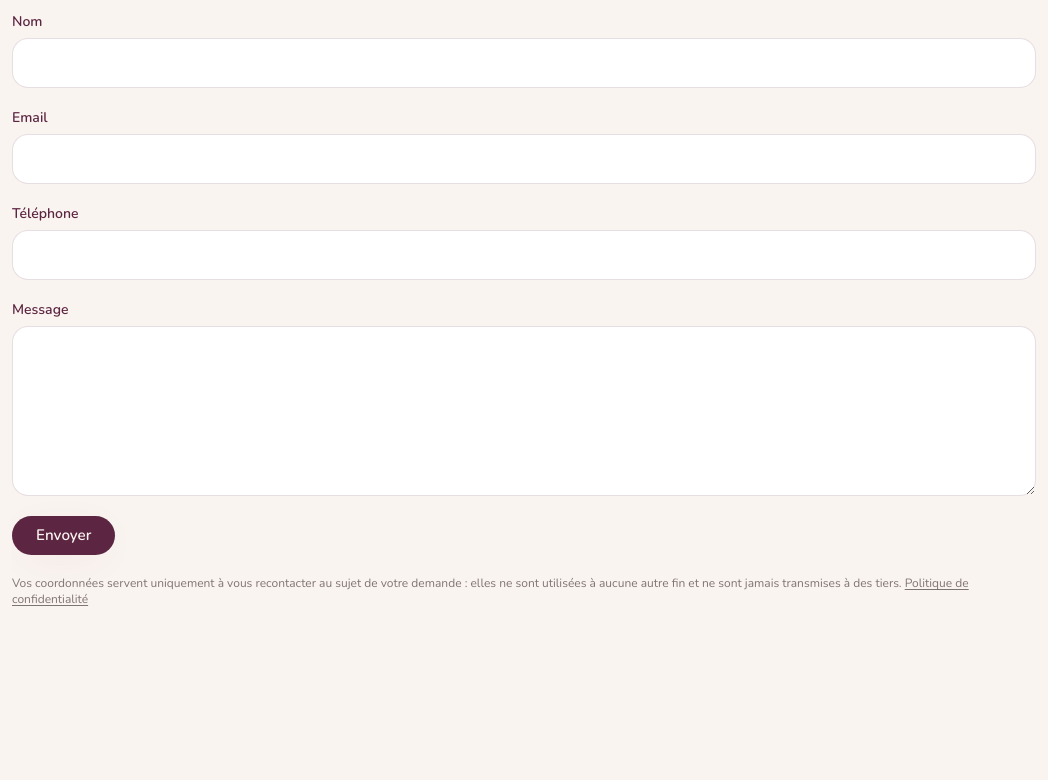
Test: ContactForm › flags every missing field and does not submit
Click the button "Envoyer". click: click(64, 536)
box: [12,516,115,555]
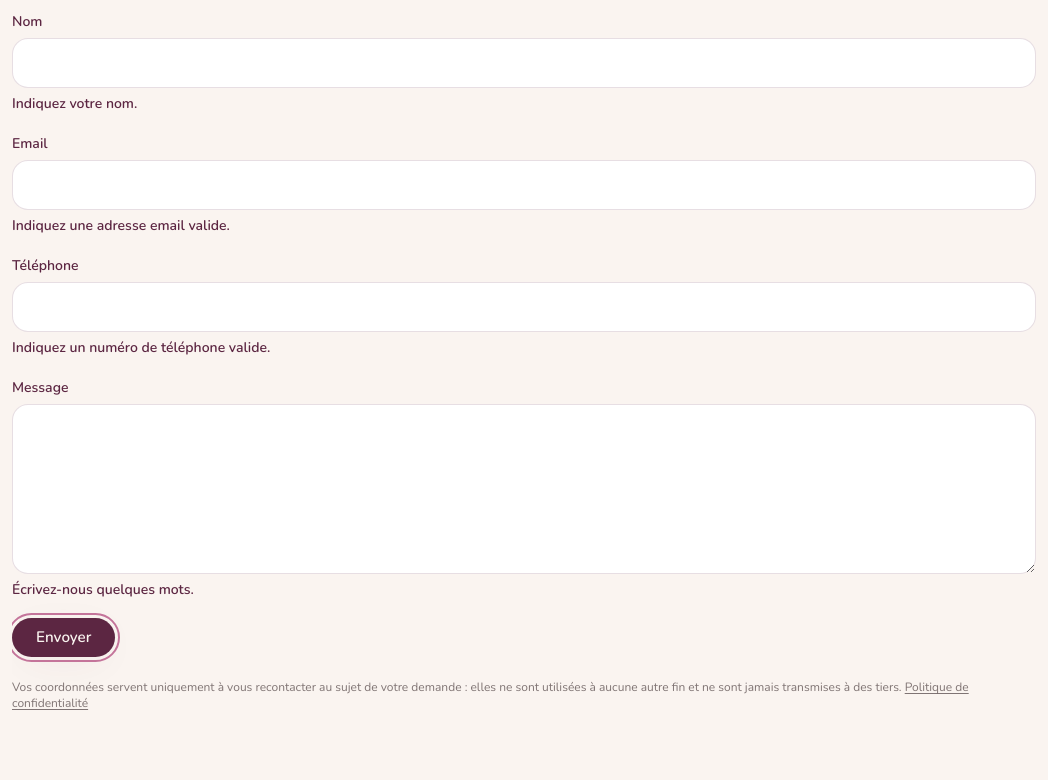
Result: the text "Indiquez votre nom." is shown at [12,94,137,113]
Result: the text "Indiquez une adresse email valide." is shown at [12,216,230,235]
Result: the text "Indiquez un numéro de téléphone valide." is shown at [12,338,270,357]
